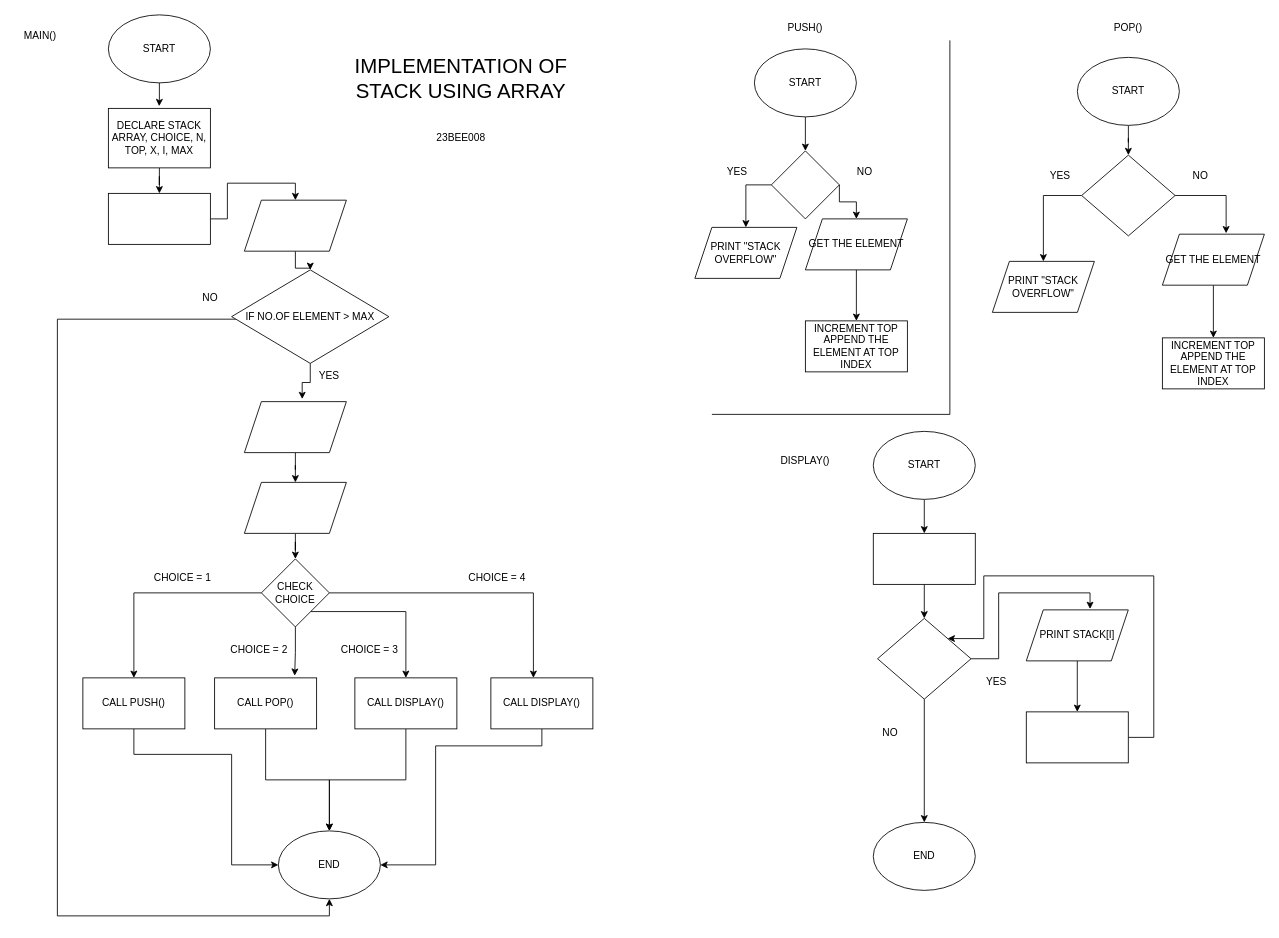
The diagram is 1279 pixels wide and 938 high, and some of its shapes have lost their labels. The shapes that lost their labels are listed below. From the top down, each one's centre as x and y in pixels, then its label:
point (805, 184): CHECK TOP >= N-1
point (1128, 195): CHECK TOP <= N-1
point (159, 218): TOP = -1
point (295, 225): GET NO.OF ELEMENTS
point (295, 427): PRINT MENU
point (295, 507): GET CHOICE
point (923, 558): DECLARE I = 0
point (924, 658): IF I > LEN(STACK)
point (1076, 737): INCREMENT I
